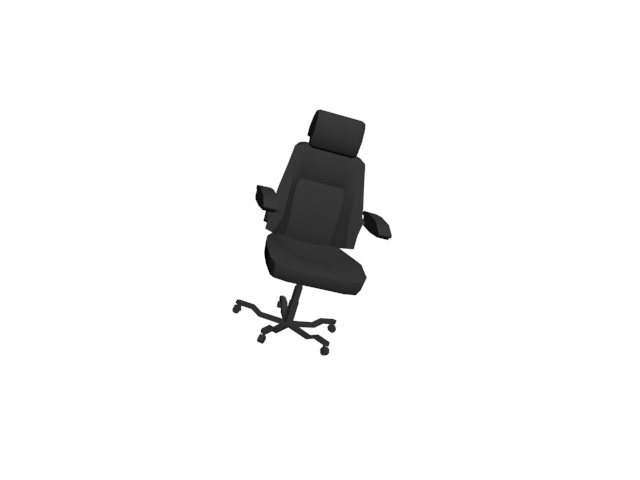desk_chair: (233, 105, 394, 360)
